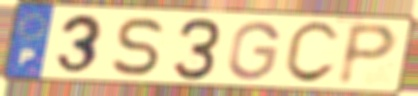3: (169, 15, 224, 83), (54, 11, 105, 77)
C: (280, 19, 342, 87)
G: (225, 19, 283, 82)
P: (334, 21, 401, 89)
S: (109, 15, 167, 78)
